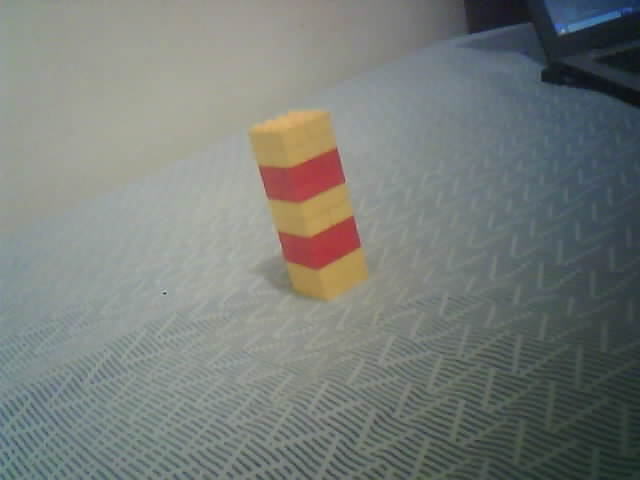lego: (247, 109, 369, 304)
